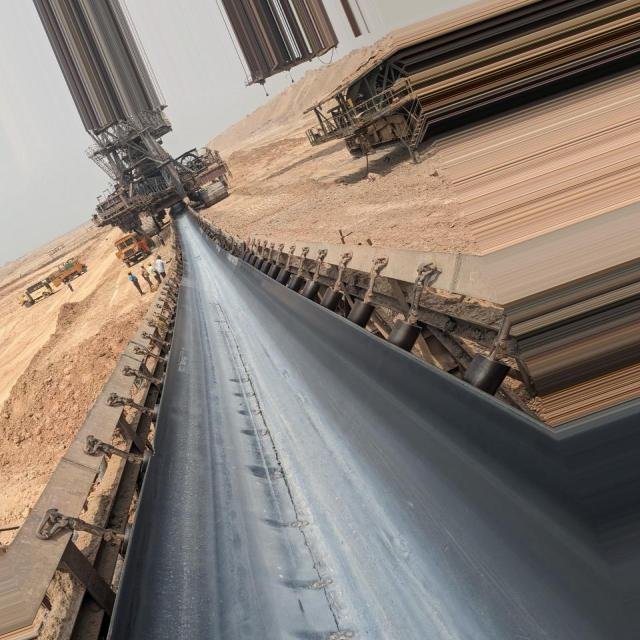Human: (138, 263, 155, 288), (143, 261, 160, 285), (128, 271, 143, 295), (157, 255, 172, 278)
Roller: (235, 251, 514, 400)
patch work: (208, 304, 370, 640)
